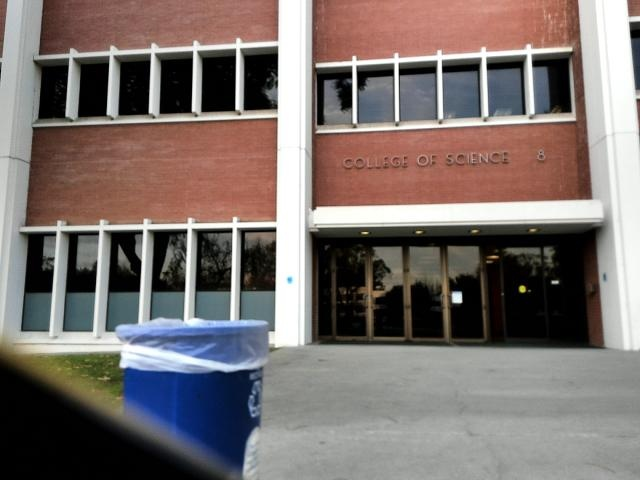trashcan_open: (116, 312, 281, 480)
